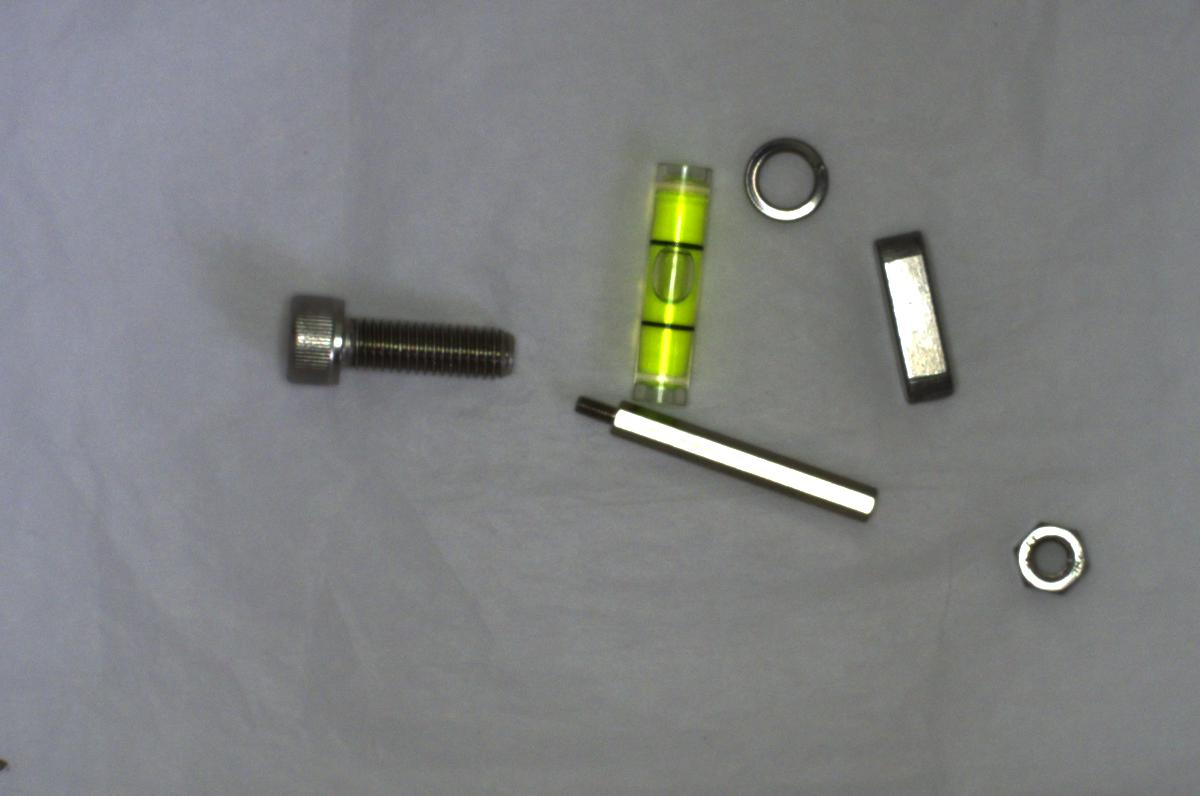Hexagon nut: (1011, 510, 1099, 600)
Hexagon screw: (264, 282, 522, 401)
Hexagonal steel column: (568, 390, 887, 525)
Horizontal bubble: (628, 152, 712, 409)
Keybar: (873, 225, 961, 396)
Spring washer: (739, 125, 837, 227)
